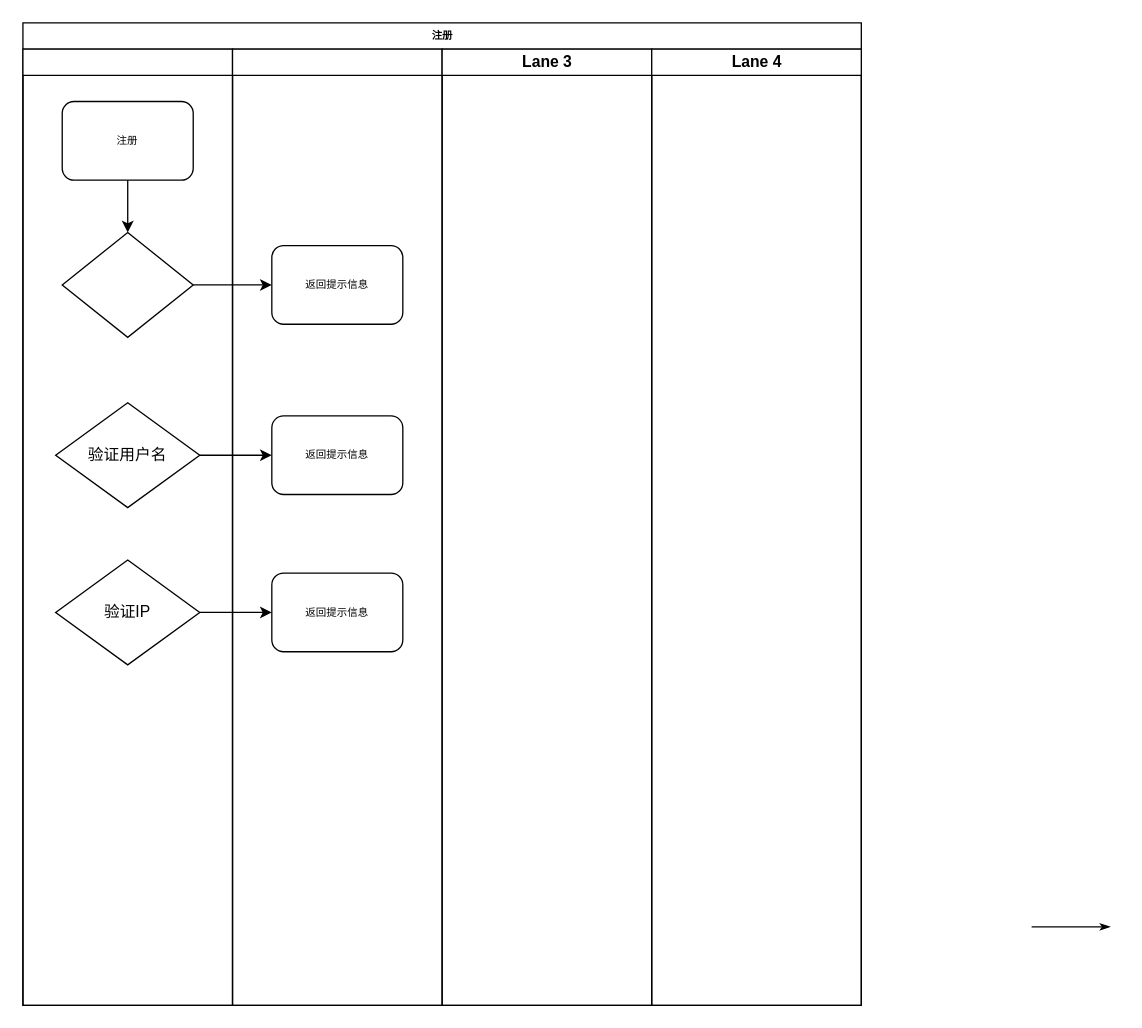
The diagram is 1142 pixels wide and 1028 high, and some of its shapes have lost their labels. The box of each missing label's shape, as (x1, y1, x2, y2) in pixels:
用户: (22, 48, 233, 1005)
系统: (231, 48, 442, 1005)
验证手机号: (61, 231, 193, 337)
